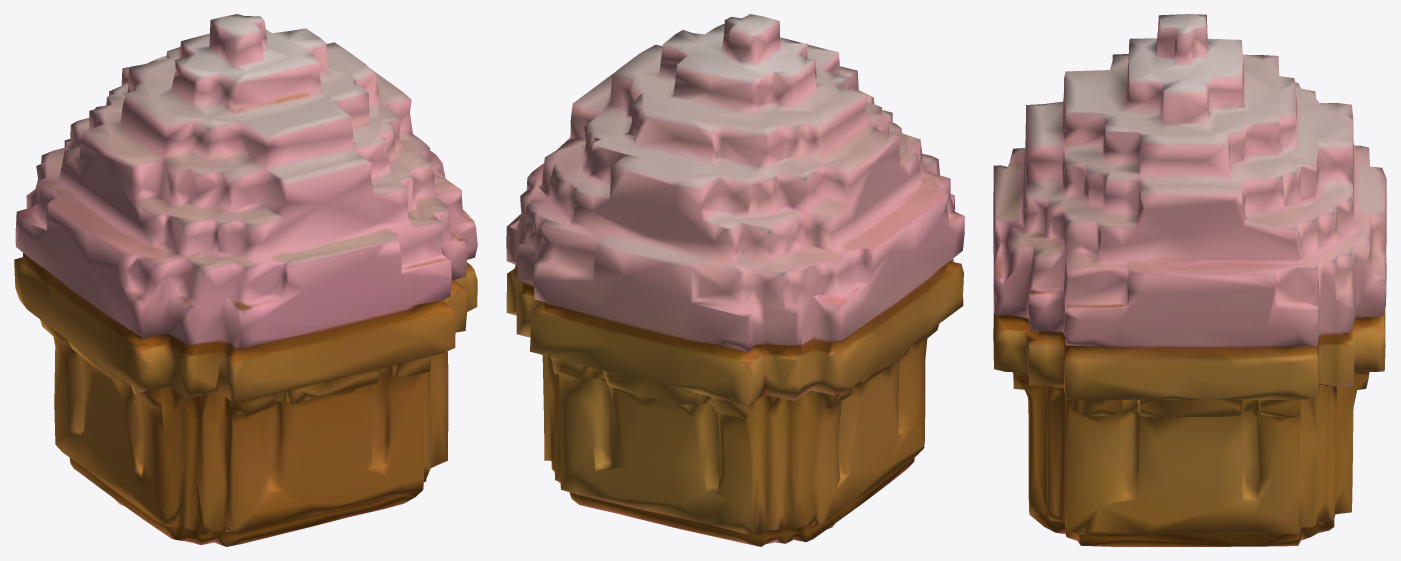
Rendered from CupcakeCheckpoint.glb.
3 views of the same model, side by side, from view 1: azimuth 30°, elevation 25°; view 2: azimuth 150°, elevation 25°; view 3: azimuth 270°, elevation 25° (orthographic).
Visible parts, largest first — view 1: input; view 2: input; view 3: input.
Boxes of the visible parts, <box> form: input: <box>14,14,477,546</box>; input: <box>506,14,964,546</box>; input: <box>993,14,1386,546</box>.
Size of the model in its own units: 4.51 by 6 by 4.51.
Materials: 1 (1 with a texture image).
